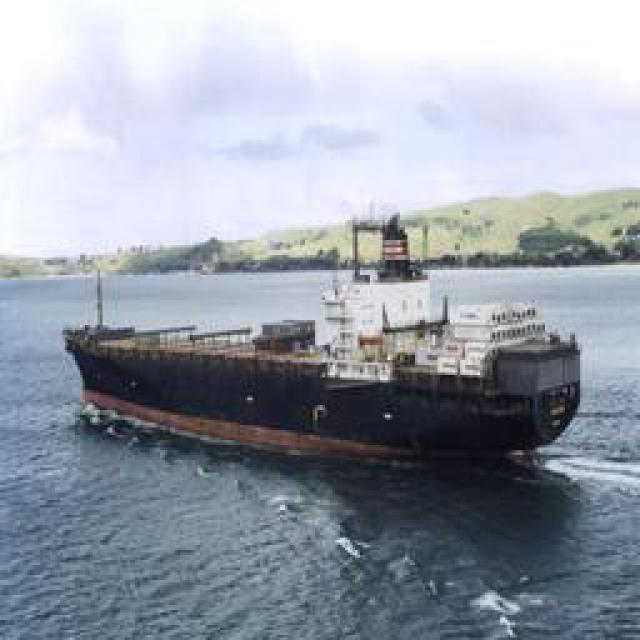Ship: (59, 278, 572, 466)
